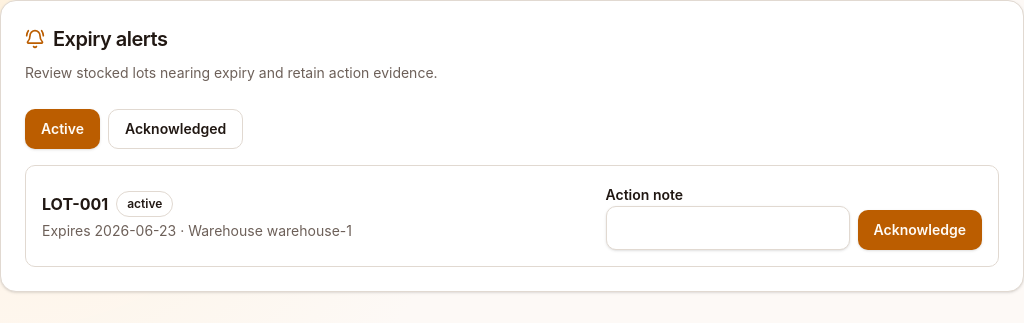
Test: expiry alerts › shows active alerts and acknowledgement evidence
Expected: the text "LOT-001" is shown, [42, 192, 108, 216]
Type "Moved to prep" into the field labelled "Action note". click: point(728, 228)
box: [606, 206, 850, 250]
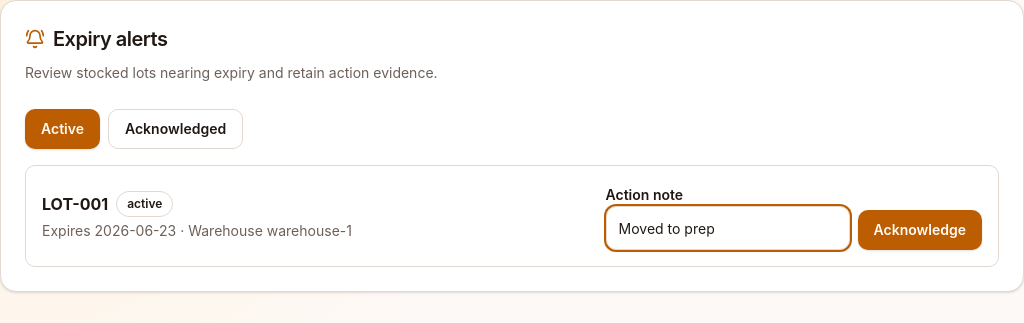
Click the button "Acknowledge". click: point(920, 230)
box: [858, 210, 982, 250]
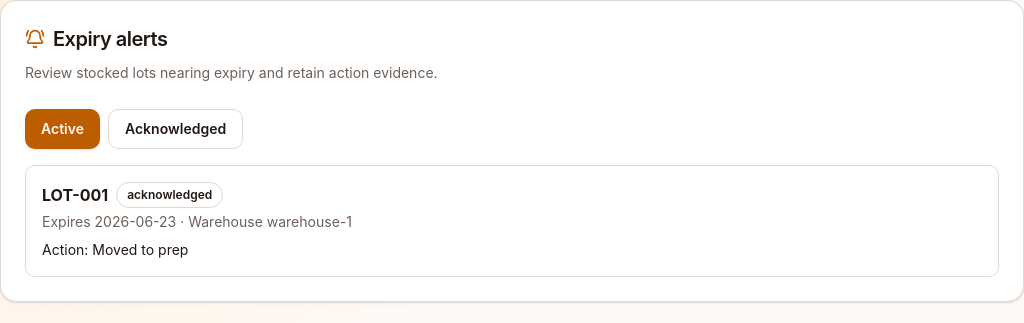
Now the text "Action: Moved to prep" is shown, box [42, 241, 188, 258]
